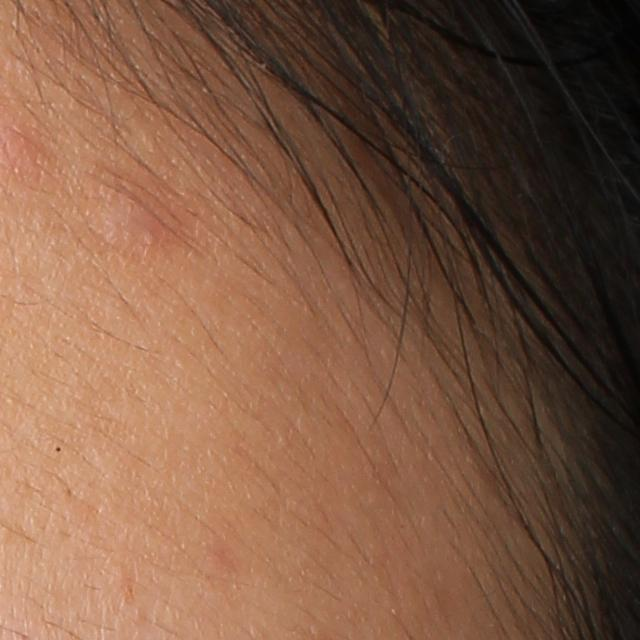papule: (101, 195, 161, 248), (2, 125, 42, 172)
